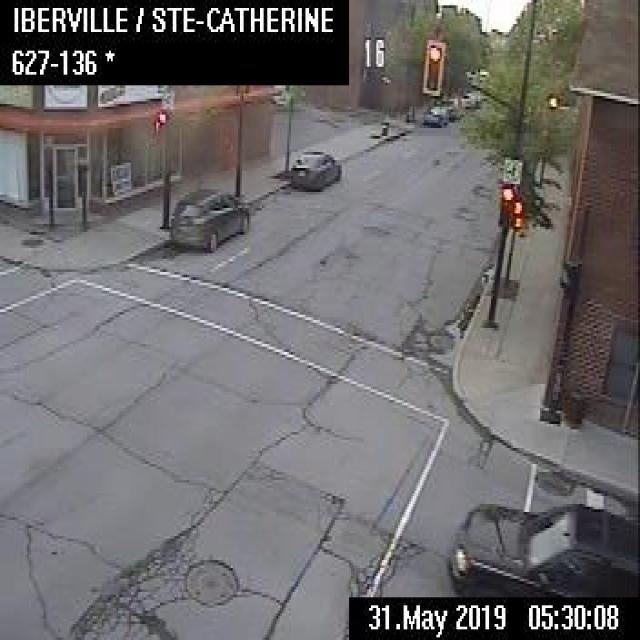vehicle: (447, 498, 638, 594), (169, 184, 250, 253), (289, 144, 340, 189), (422, 101, 448, 128), (440, 92, 462, 118), (457, 87, 479, 107)
